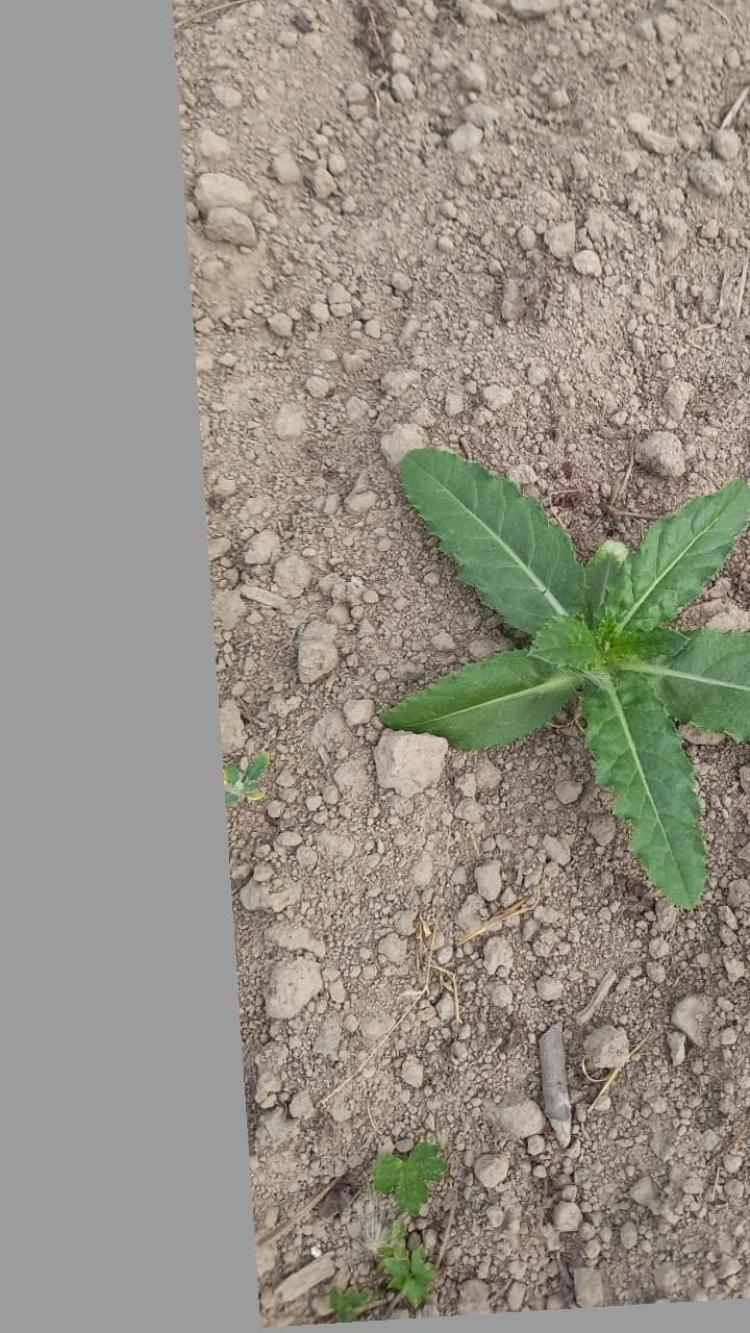osot: (383, 442, 750, 921)
